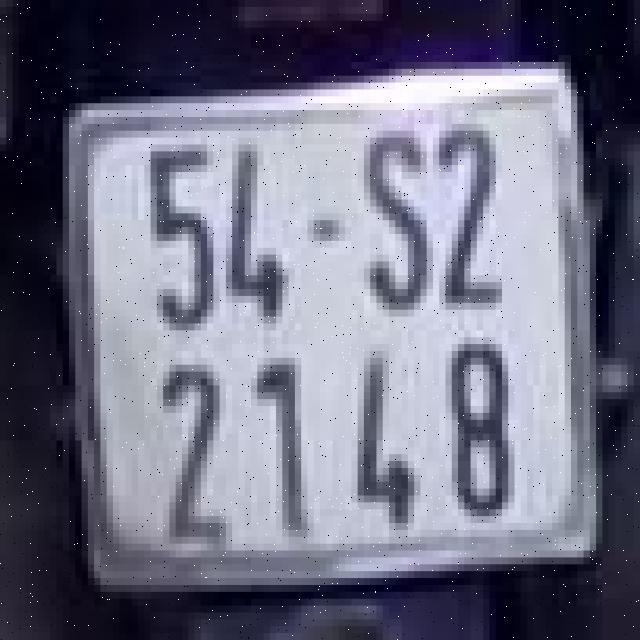1: (248, 351, 310, 544)
2: (150, 361, 238, 554), (433, 104, 508, 324)
4: (220, 127, 301, 327), (342, 341, 423, 540)
5: (141, 141, 217, 334)
8: (439, 334, 521, 526)
S: (361, 114, 430, 320)
